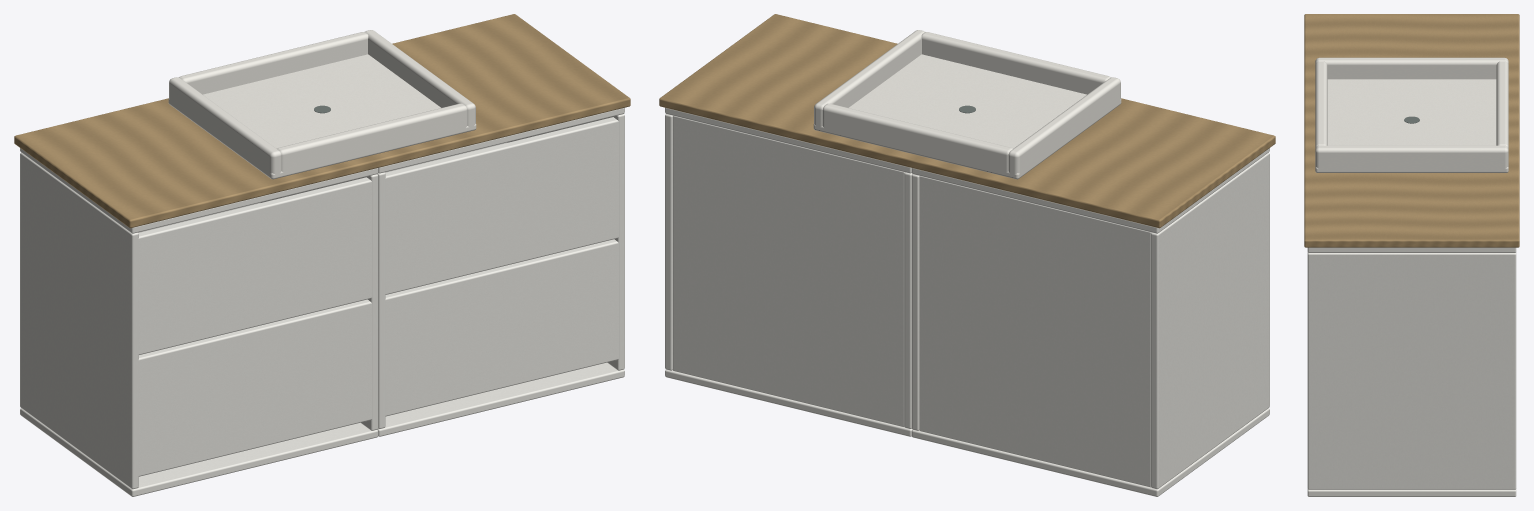
The model's file is havback.glb.
3 views of the same model, side by side, from view 1: azimuth 30°, elevation 25°; view 2: azimuth 150°, elevation 25°; view 3: azimuth 270°, elevation 25° (orthographic). The views are drawn at different scales.
Visible parts, largest first — view 1: HAVBÄCK / ORRSJÖN Vanity with countertop basin; view 2: HAVBÄCK / ORRSJÖN Vanity with countertop basin; view 3: HAVBÄCK / ORRSJÖN Vanity with countertop basin.
Boxes of the visible parts, x1,y1,x2,y2 form: HAVBÄCK / ORRSJÖN Vanity with countertop basin: (14, 14, 630, 496); HAVBÄCK / ORRSJÖN Vanity with countertop basin: (659, 14, 1275, 496); HAVBÄCK / ORRSJÖN Vanity with countertop basin: (1304, 14, 1519, 496).
Size of the model in its own units: 1.22 by 0.71 by 0.49.
4 materials, 3 textured.
